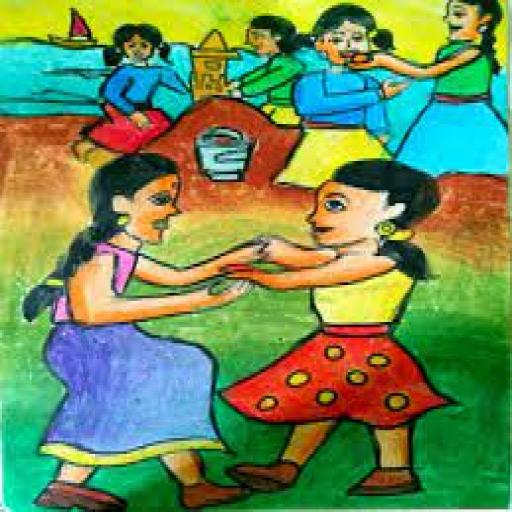objects: (394, 0, 512, 174)
person: (21, 156, 267, 510), (24, 154, 256, 509), (222, 154, 449, 504), (224, 159, 448, 496), (354, 0, 510, 176), (272, 0, 401, 191), (277, 3, 405, 190), (67, 25, 189, 165), (76, 24, 187, 158), (223, 9, 315, 146), (230, 16, 304, 126)
